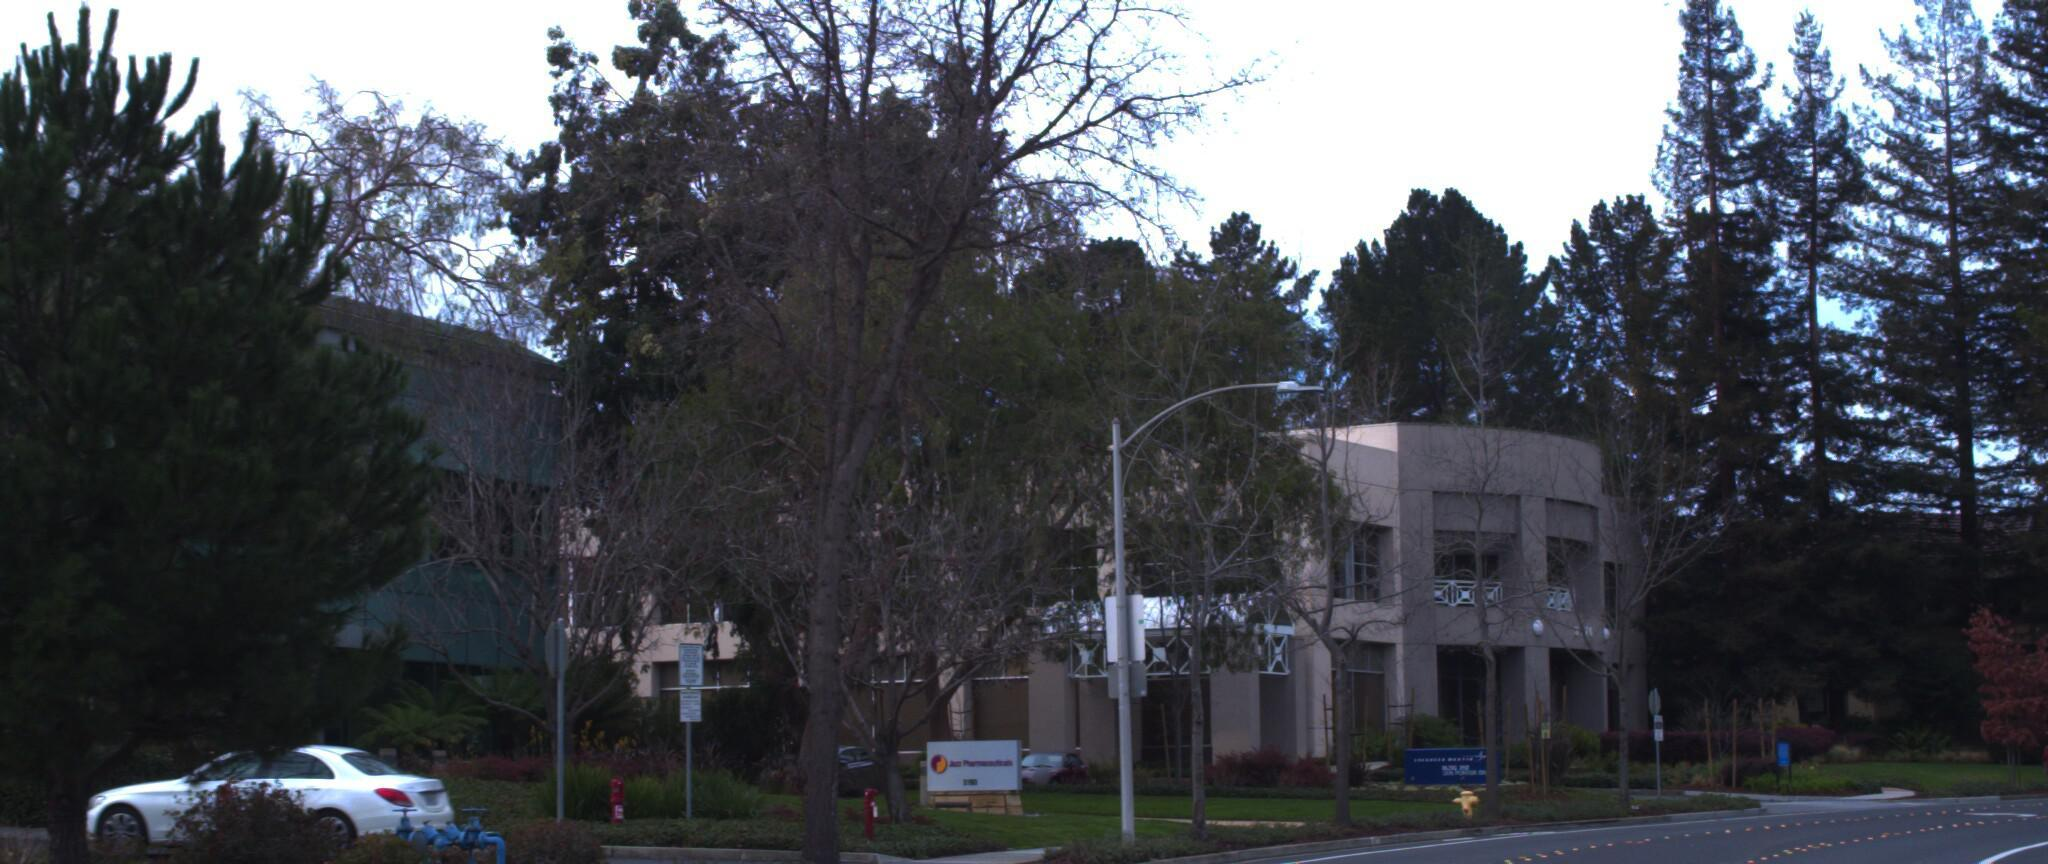car: (72, 737, 466, 864)
